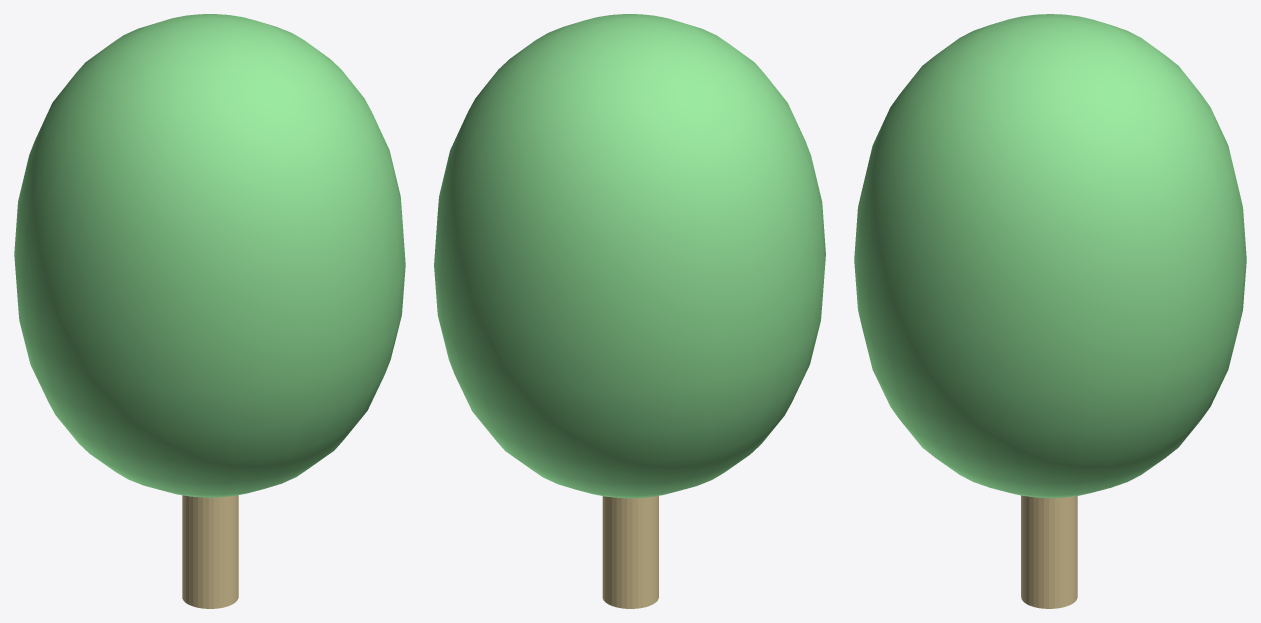
Rendered from tree01.glb.
3 views of the same model, side by side, from view 1: azimuth 30°, elevation 25°; view 2: azimuth 150°, elevation 25°; view 3: azimuth 270°, elevation 25° (orthographic).
Parts seen in each view (by area): view 1: Sphere.001; view 2: Sphere.001; view 3: Sphere.001.
Boxes of the visible parts, <box> form: Sphere.001: <box>14,14,405,608</box>; Sphere.001: <box>434,14,825,608</box>; Sphere.001: <box>854,14,1246,608</box>.
Bounding box in the file's own units: 0.8261 × 1.31 × 0.8261.
